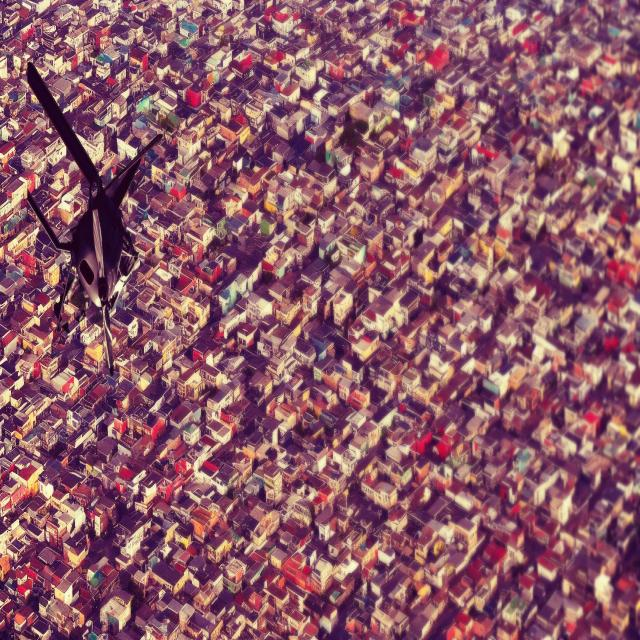airplane: (25, 60, 165, 375)
